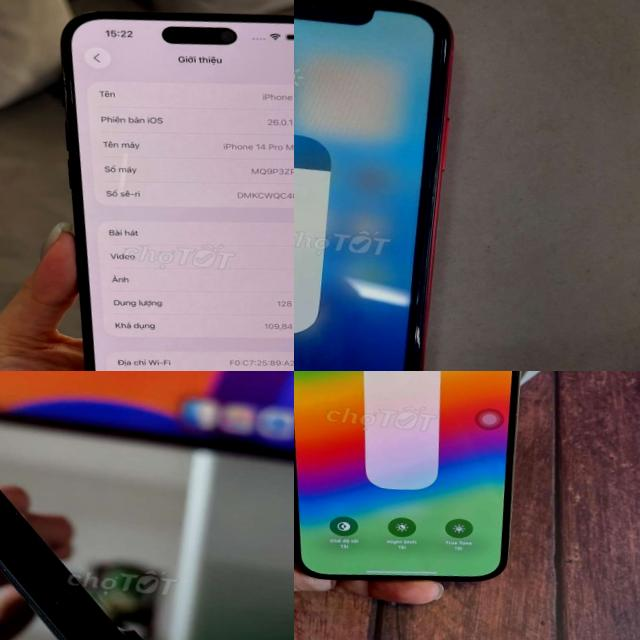gen_14: (18, 0, 294, 371), (0, 428, 286, 640), (294, 371, 556, 602)
gen_x_xs: (294, 0, 461, 371)
scratch: (1, 500, 68, 558)
